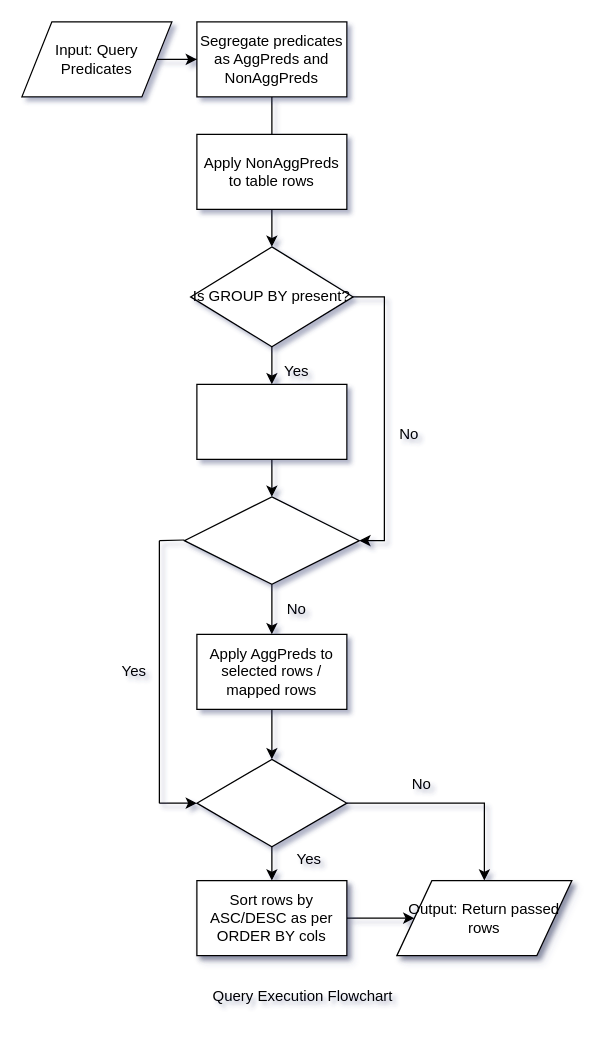
Image size: 609x1048. Some labels were removed from this diagram. The shapes that lost their labels are listed below. From the top down, each one's centre as x and y in pixels, then its label:
At (271,421): "Map selected rows to GROUP BY cols as keys".
At (271,540): "Is AggPreds empty?".
At (271,802): "Is ORDER BY present?".
